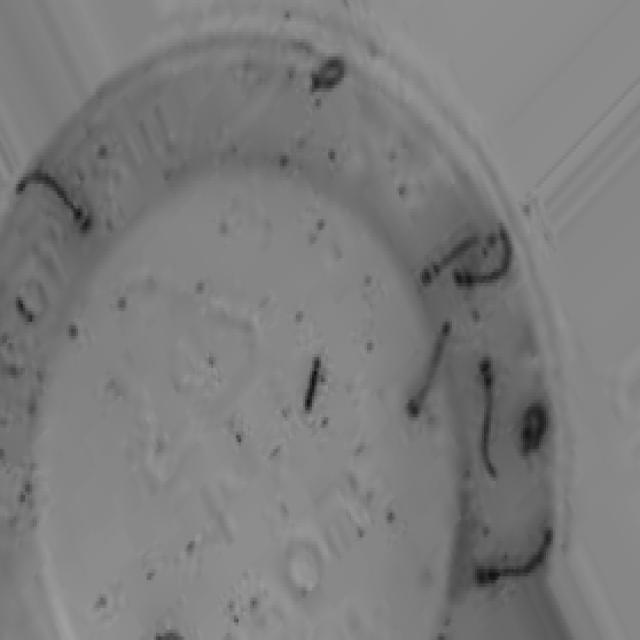larvas: (449, 224, 522, 312), (414, 216, 485, 296), (16, 166, 91, 239), (472, 530, 550, 584), (407, 323, 450, 418), (475, 355, 498, 480), (310, 51, 346, 95), (520, 401, 552, 450), (16, 282, 52, 324), (302, 355, 319, 410)
